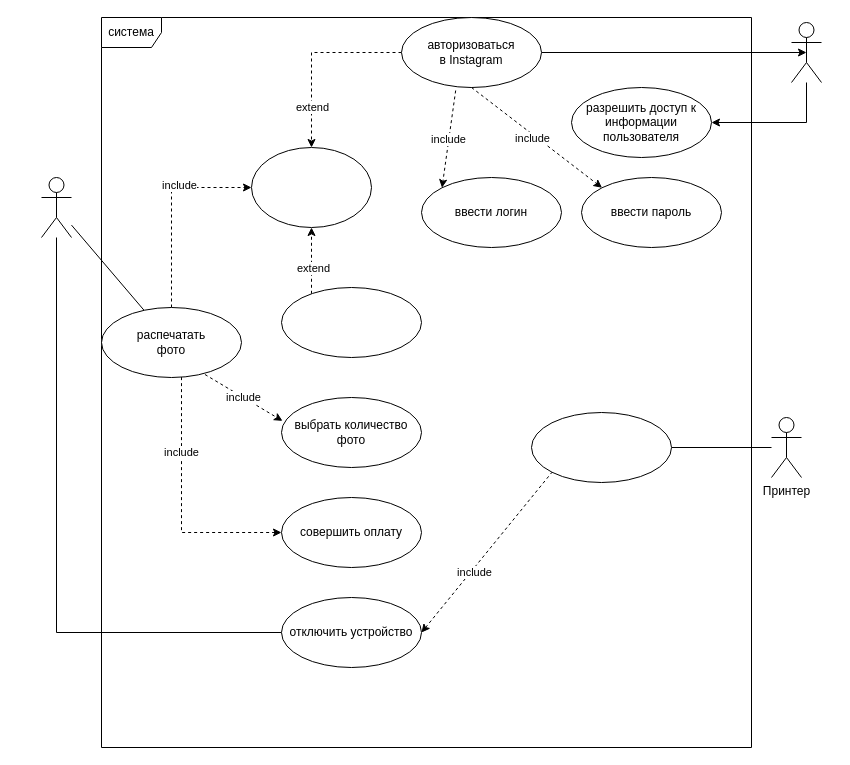
This 850x765 diagram has some shape labels left out. The shapes that lost their labels are listed below. From the top down, each one's centre as x and y in pixels, then its label:
At point 806,52: "Instagram".
At point 56,207: "Пользователь".
At point 311,187: "выбрать источник".
At point 351,322: "подключить устройство к автомату".
At point 601,447: "печать фотографий".
